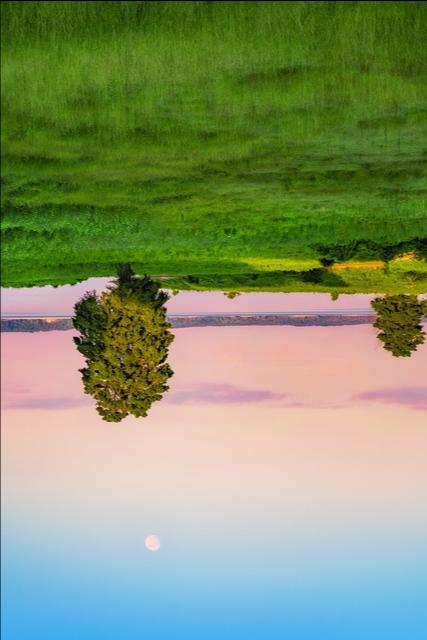Non_Gorille: (13, 95, 422, 543)
